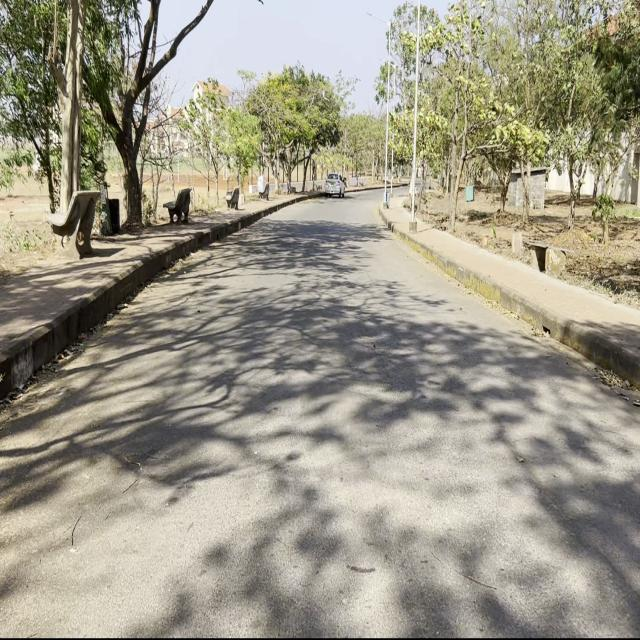Object: (324, 171, 344, 193)
Road: (1, 193, 635, 632)
